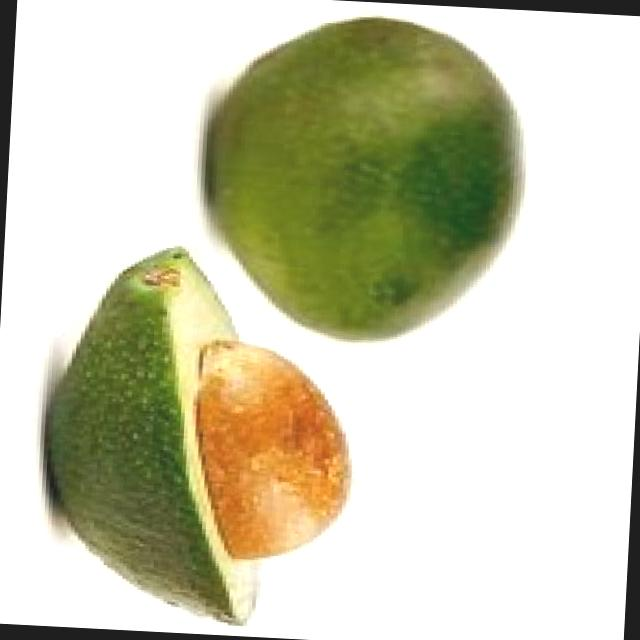avocado: (21, 230, 367, 640), (188, 2, 546, 358)
